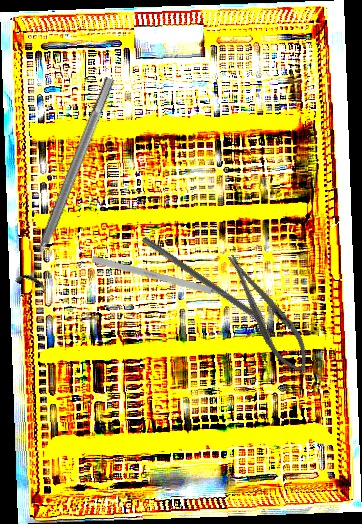Fixation Ring: (13, 71, 127, 295)
Hook Surgical: (91, 255, 240, 302)
Needle Holder: (217, 246, 319, 382)
Spatula Surgical: (137, 235, 283, 341)
